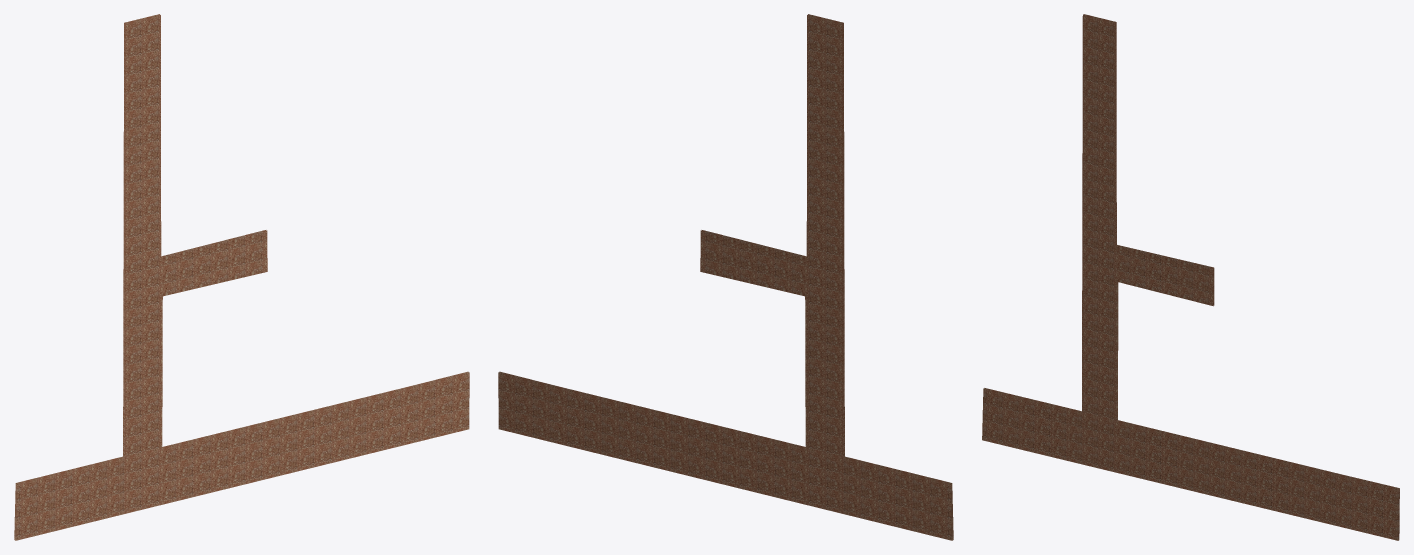
Rendered from floor_1.obj.
3 views of the same model, side by side, from view 1: azimuth 30°, elevation 25°; view 2: azimuth 150°, elevation 25°; view 3: azimuth 330°, elevation 25° (orthographic). The views are drawn at different scales.
Parts seen in each view (by area): view 1: floor_1; view 2: floor_1; view 3: floor_1.
Boxes of the visible parts, x1,y1,x2,y2 form: floor_1: (14,14,469,540); floor_1: (498,14,953,540); floor_1: (982,14,1399,540).
Size of the model in its own units: 26.29 by 27.13 by 0.1.
Materials: 1 (1 with a texture image).
